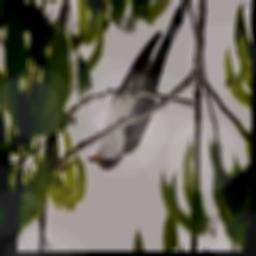Cuckoo: (87, 0, 194, 172)
